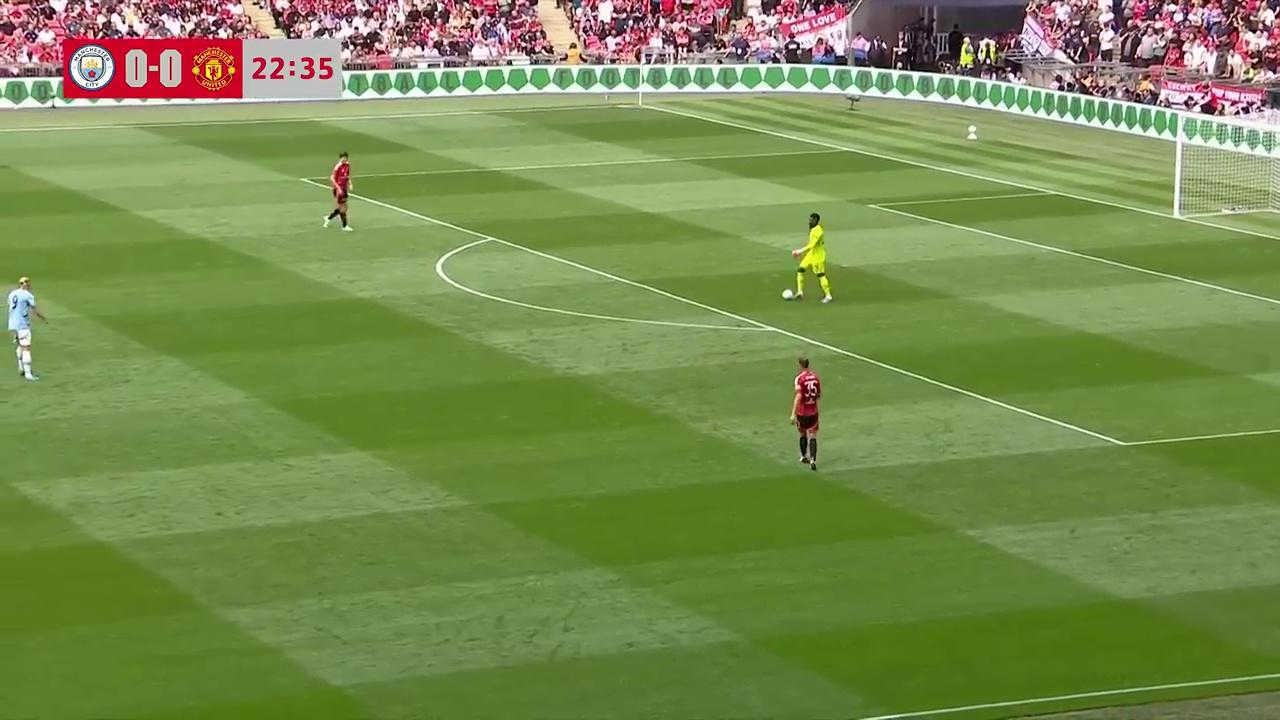ball: (780, 286, 795, 300)
player: (791, 213, 833, 303), (6, 282, 41, 380), (790, 356, 821, 464), (324, 152, 352, 231)
